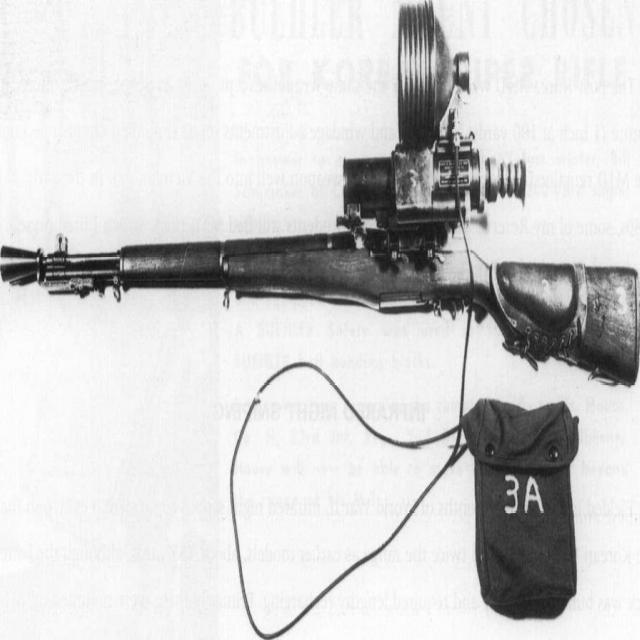firearm: (0, 0, 640, 389)
